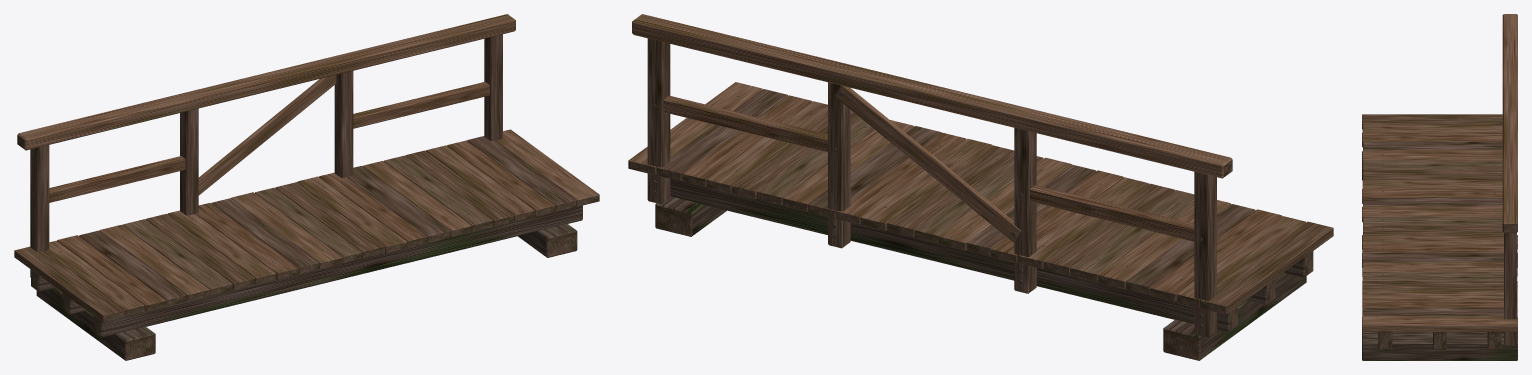
The model's file is wooden_bridge.glb.
The picture shows the model from 3 angles, left to right: view 1: azimuth 30°, elevation 25°; view 2: azimuth 150°, elevation 25°; view 3: azimuth 270°, elevation 25°; orthographic projection. The views are drawn at different scales.
Parts seen in each view (by area): view 1: Deck, One-sided railing, Underside, Signature diagonal brace; view 2: Deck, One-sided railing, Underside, Signature diagonal brace; view 3: Deck, One-sided railing, Underside.
Part boxes in pixels (x1,y1,x2,y2): Deck: (14,129,599,322); One-sided railing: (17,14,515,277); Underside: (31,205,582,360); Signature diagonal brace: (198,75,336,195); Deck: (628,82,1333,314); One-sided railing: (632,14,1232,337); Underside: (655,179,1313,360); Signature diagonal brace: (834,85,1020,242); Deck: (1362,114,1517,331); One-sided railing: (1502,14,1517,345); Underside: (1362,151,1517,360).
Size of the model in its own units: 4.5 by 1.47 by 1.4.
2 materials, 1 textured.
